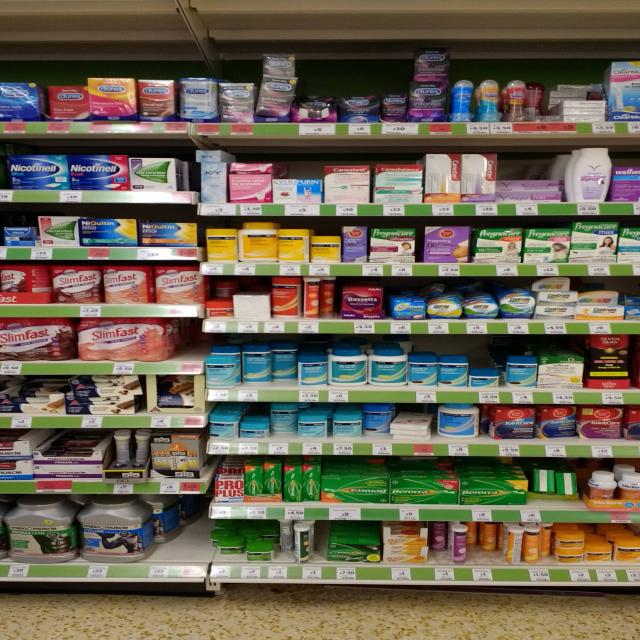100- O.O.S: (183, 500, 207, 577), (180, 318, 201, 374)
